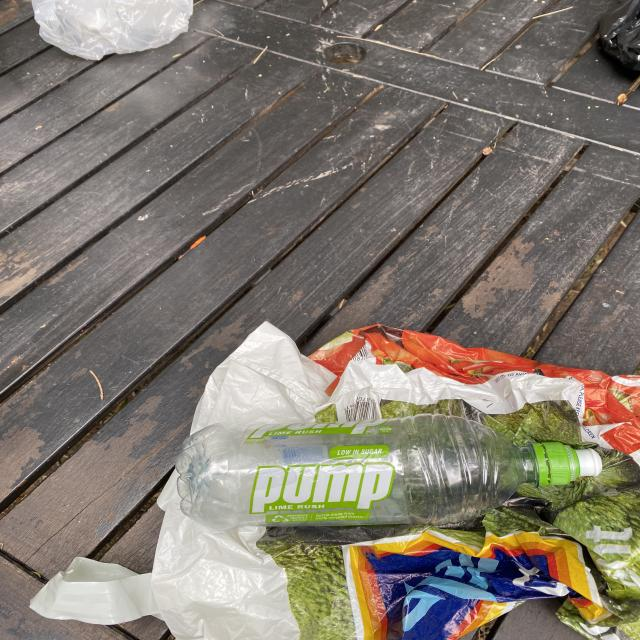bag: (33, 319, 640, 640), (32, 0, 193, 61)
bottle: (177, 414, 603, 526)
